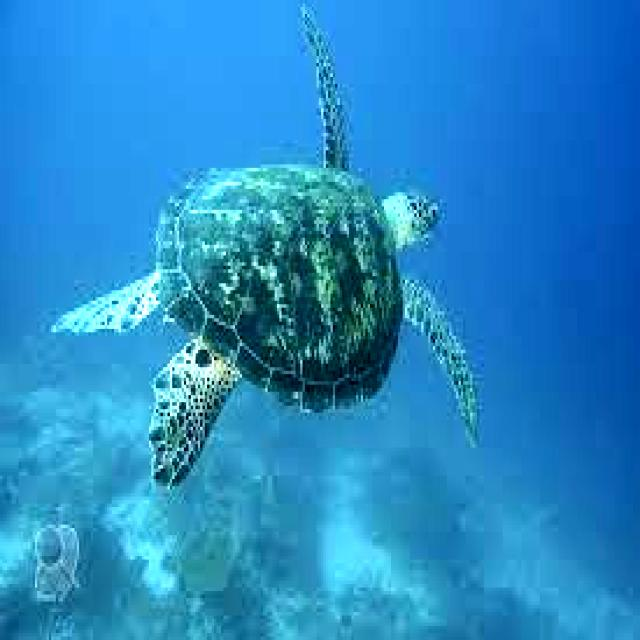Sea turtle: (50, 0, 485, 491)
